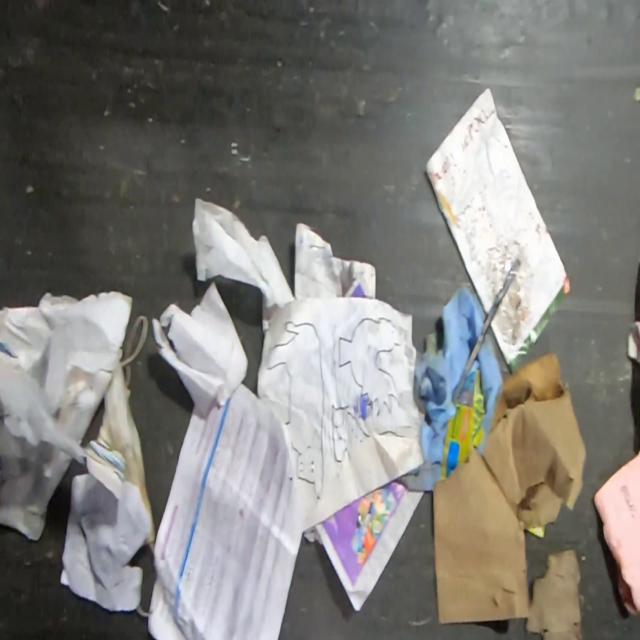cardboard: (433, 351, 590, 625), (442, 370, 487, 480), (526, 524, 546, 538)
metal: (452, 260, 520, 400)
soft_plastic: (394, 284, 486, 492), (485, 237, 536, 348), (469, 338, 504, 455), (122, 314, 149, 388)
